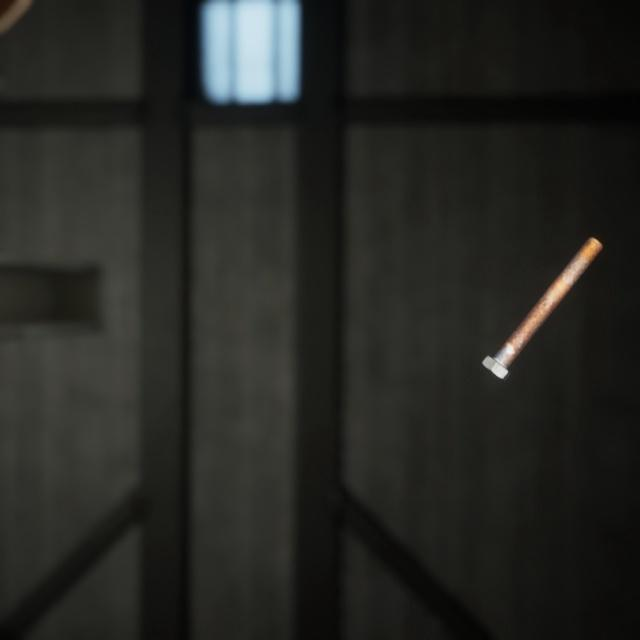bolt: (477, 215, 607, 368)
